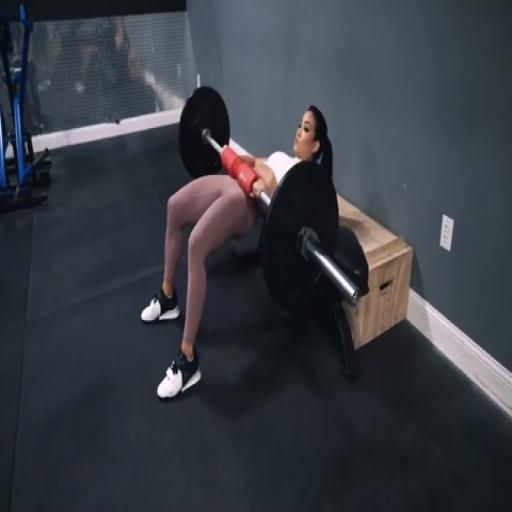exercise: (138, 102, 340, 402)
